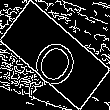O_NE: (24, 22, 86, 88)
